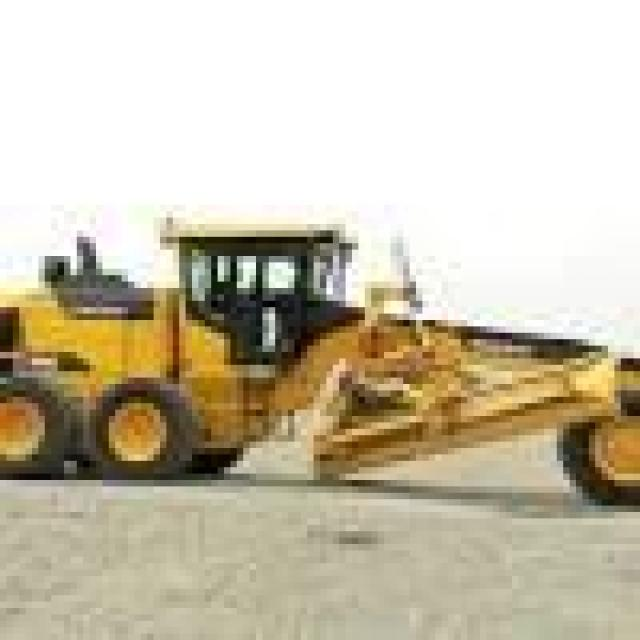Grader: (0, 186, 634, 531)
